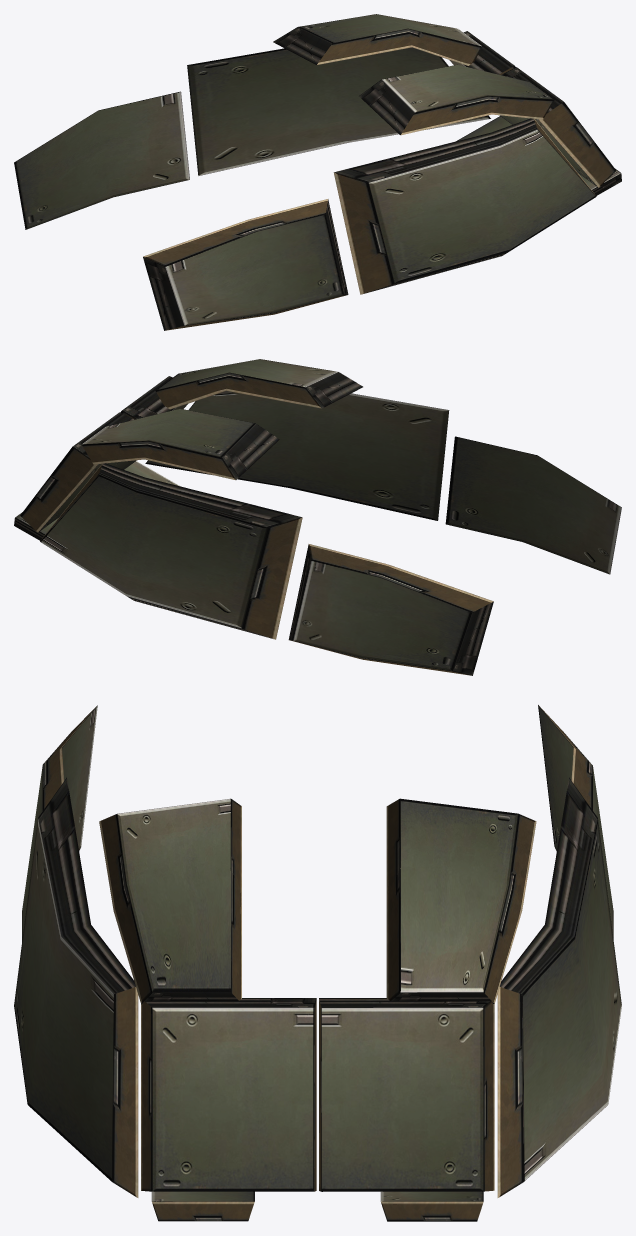
File: light_unit_plating.obj
3 views of the same model, one above another, from view 1: azimuth 30°, elevation 25°; view 2: azimuth 150°, elevation 25°; view 3: azimuth 270°, elevation 25° (orthographic). The views are drawn at different scales.
Parts seen in each view (by area): view 1: polySurface25; view 2: polySurface25; view 3: polySurface25.
Part boxes in pixels (x1,y1,x2,y2): polySurface25: [14, 14, 621, 330]; polySurface25: [14, 359, 621, 675]; polySurface25: [14, 705, 621, 1221].
Bounding box in the file's own units: 34.29 × 10.52 × 21.17.
Materials: 1 (1 with a texture image).
